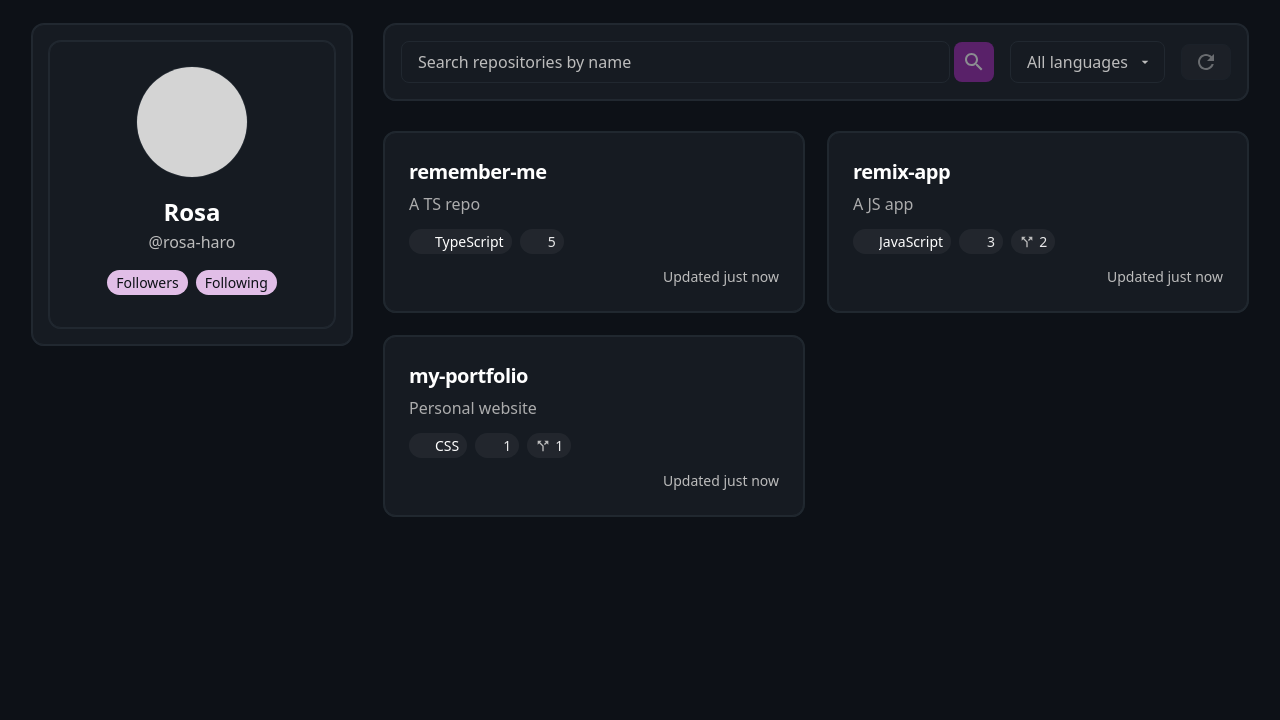
Test case: UserPage — repo filters › combines text('rem') and language (TypeScript) filters
Expected: the heading "remember-me" is shown, x1=409 y1=158 x2=547 y2=185
Expected: the heading "remix-app" is shown, x1=853 y1=158 x2=950 y2=185
Type "rem" into the field named "repositories search" at [676, 62], box x1=401 y1=41 x2=950 y2=83
Then press Enter
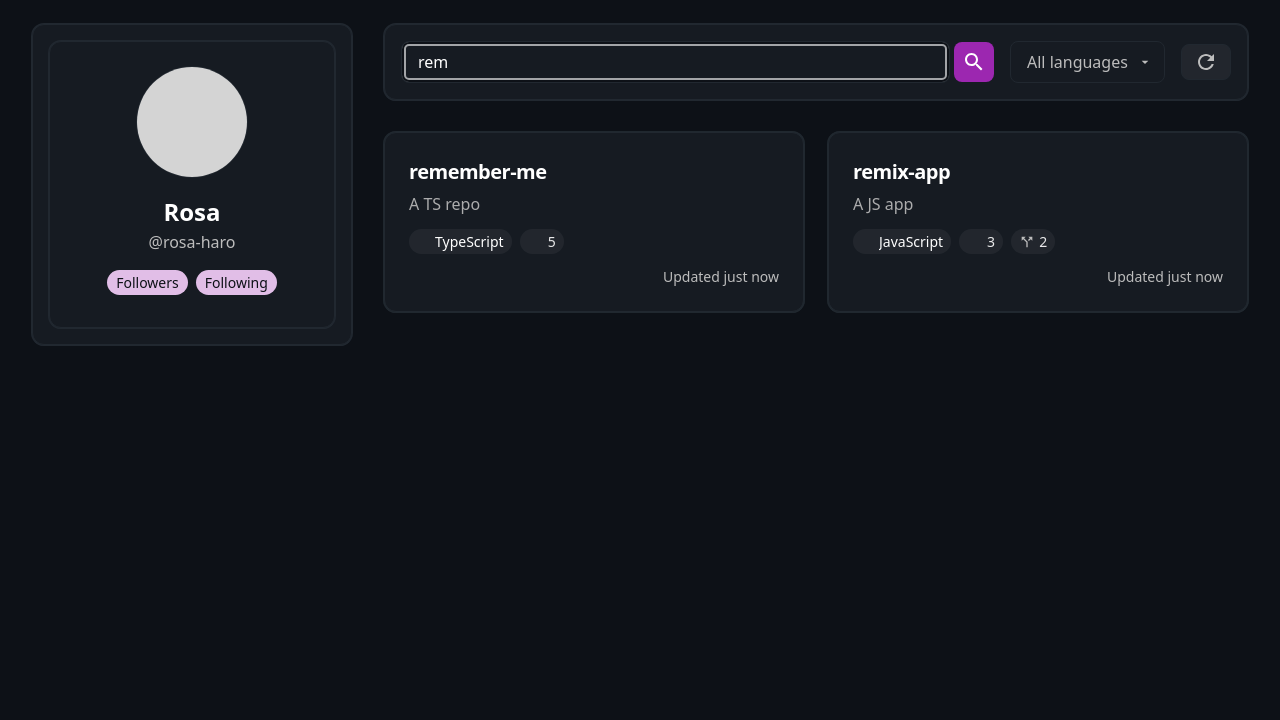
Expected: the heading "remember-me" is shown, x1=409 y1=158 x2=547 y2=185
Now the heading "my-portfolio" is gone
Select "TypeScript" in the dropdown named "filter by language" at [1088, 62], box x1=1010 y1=41 x2=1165 y2=83
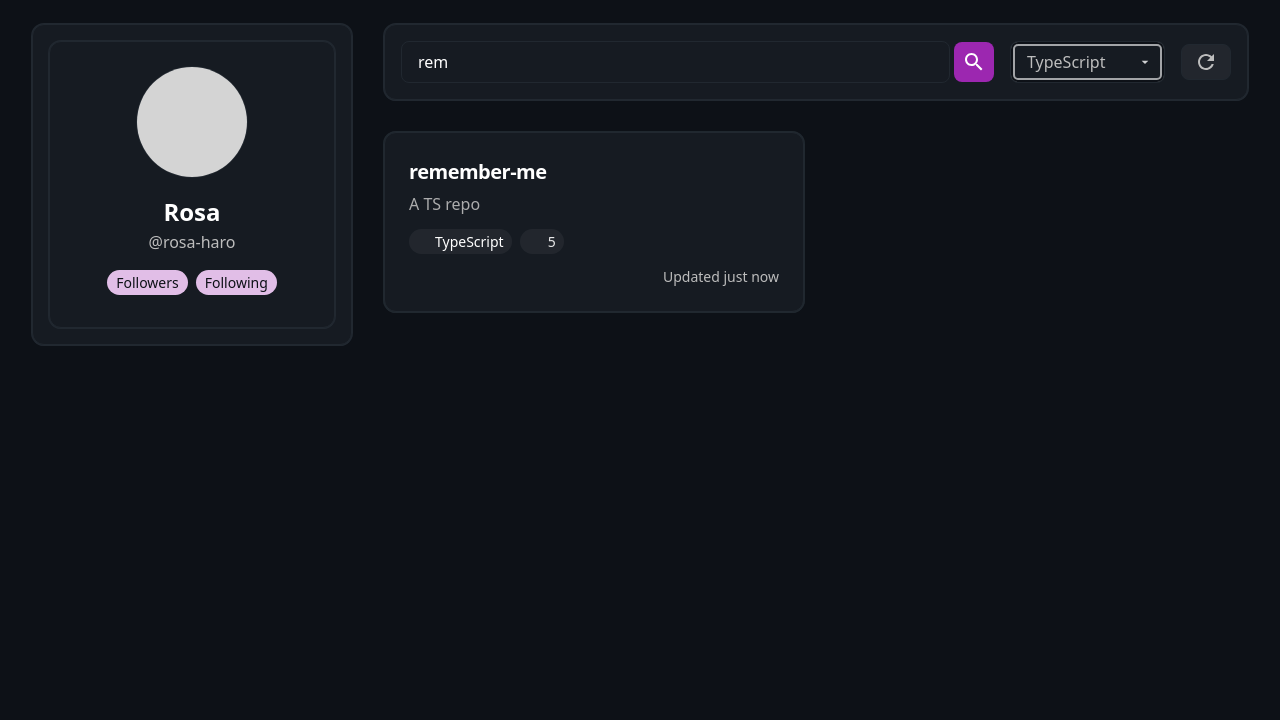
Expected: the heading "remember-me" is shown, x1=409 y1=158 x2=547 y2=185
Now the heading "remix-app" is gone
